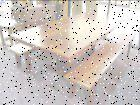Mesa: (10, 12, 125, 82)
Silla: (65, 33, 137, 104), (8, 13, 86, 74), (0, 19, 24, 50)
